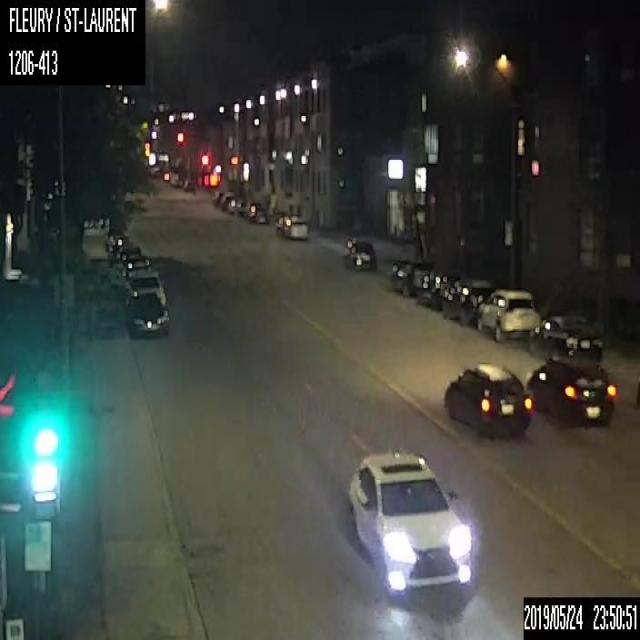vehicle: (344, 447, 472, 596), (444, 363, 531, 439), (524, 358, 612, 426), (526, 313, 601, 364), (477, 286, 539, 342), (442, 276, 491, 324), (390, 253, 432, 296), (126, 293, 168, 335), (414, 267, 455, 308), (124, 270, 168, 306), (341, 232, 377, 269), (275, 212, 307, 239), (254, 208, 266, 224)
